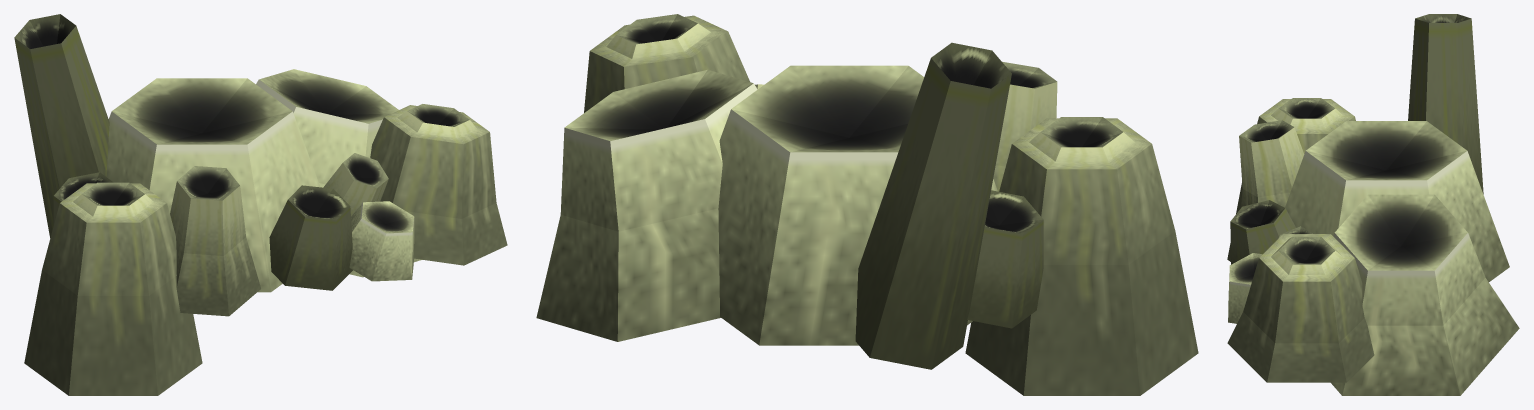
File: BarnacleClub1.fbx
The picture shows the model from 3 angles, left to right: view 1: azimuth 30°, elevation 25°; view 2: azimuth 150°, elevation 25°; view 3: azimuth 270°, elevation 25°; orthographic projection. The views are drawn at different scales.
Parts seen in each view (by area): view 1: BarnacleClub1; view 2: BarnacleClub1; view 3: BarnacleClub1.
Boxes of the visible parts, x1,y1,x2,y2 form: BarnacleClub1: [14, 14, 507, 395]; BarnacleClub1: [536, 14, 1198, 395]; BarnacleClub1: [1227, 14, 1519, 395].
Bounding box in the file's own units: 153 × 93.56 × 99.1.
